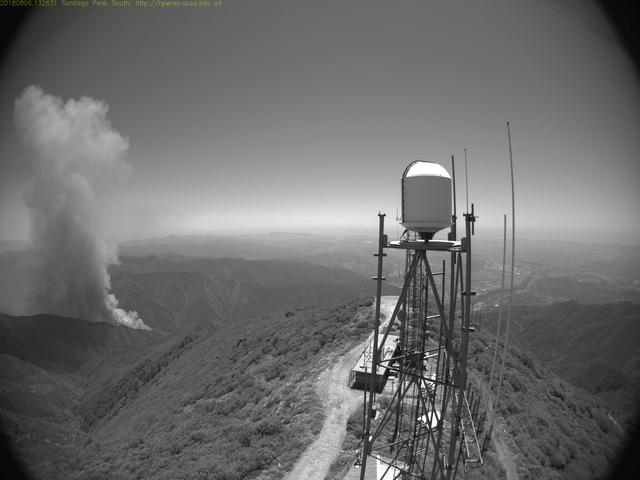smoke: (0, 84, 153, 337)
